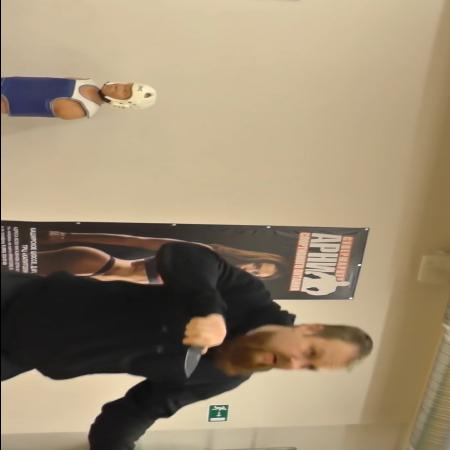long weapon: (175, 316, 231, 380)
